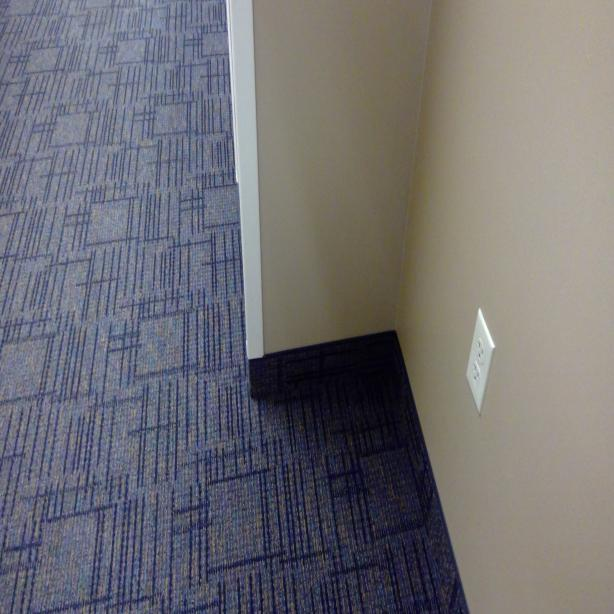typeb: (476, 338, 486, 362), (470, 364, 480, 384)
